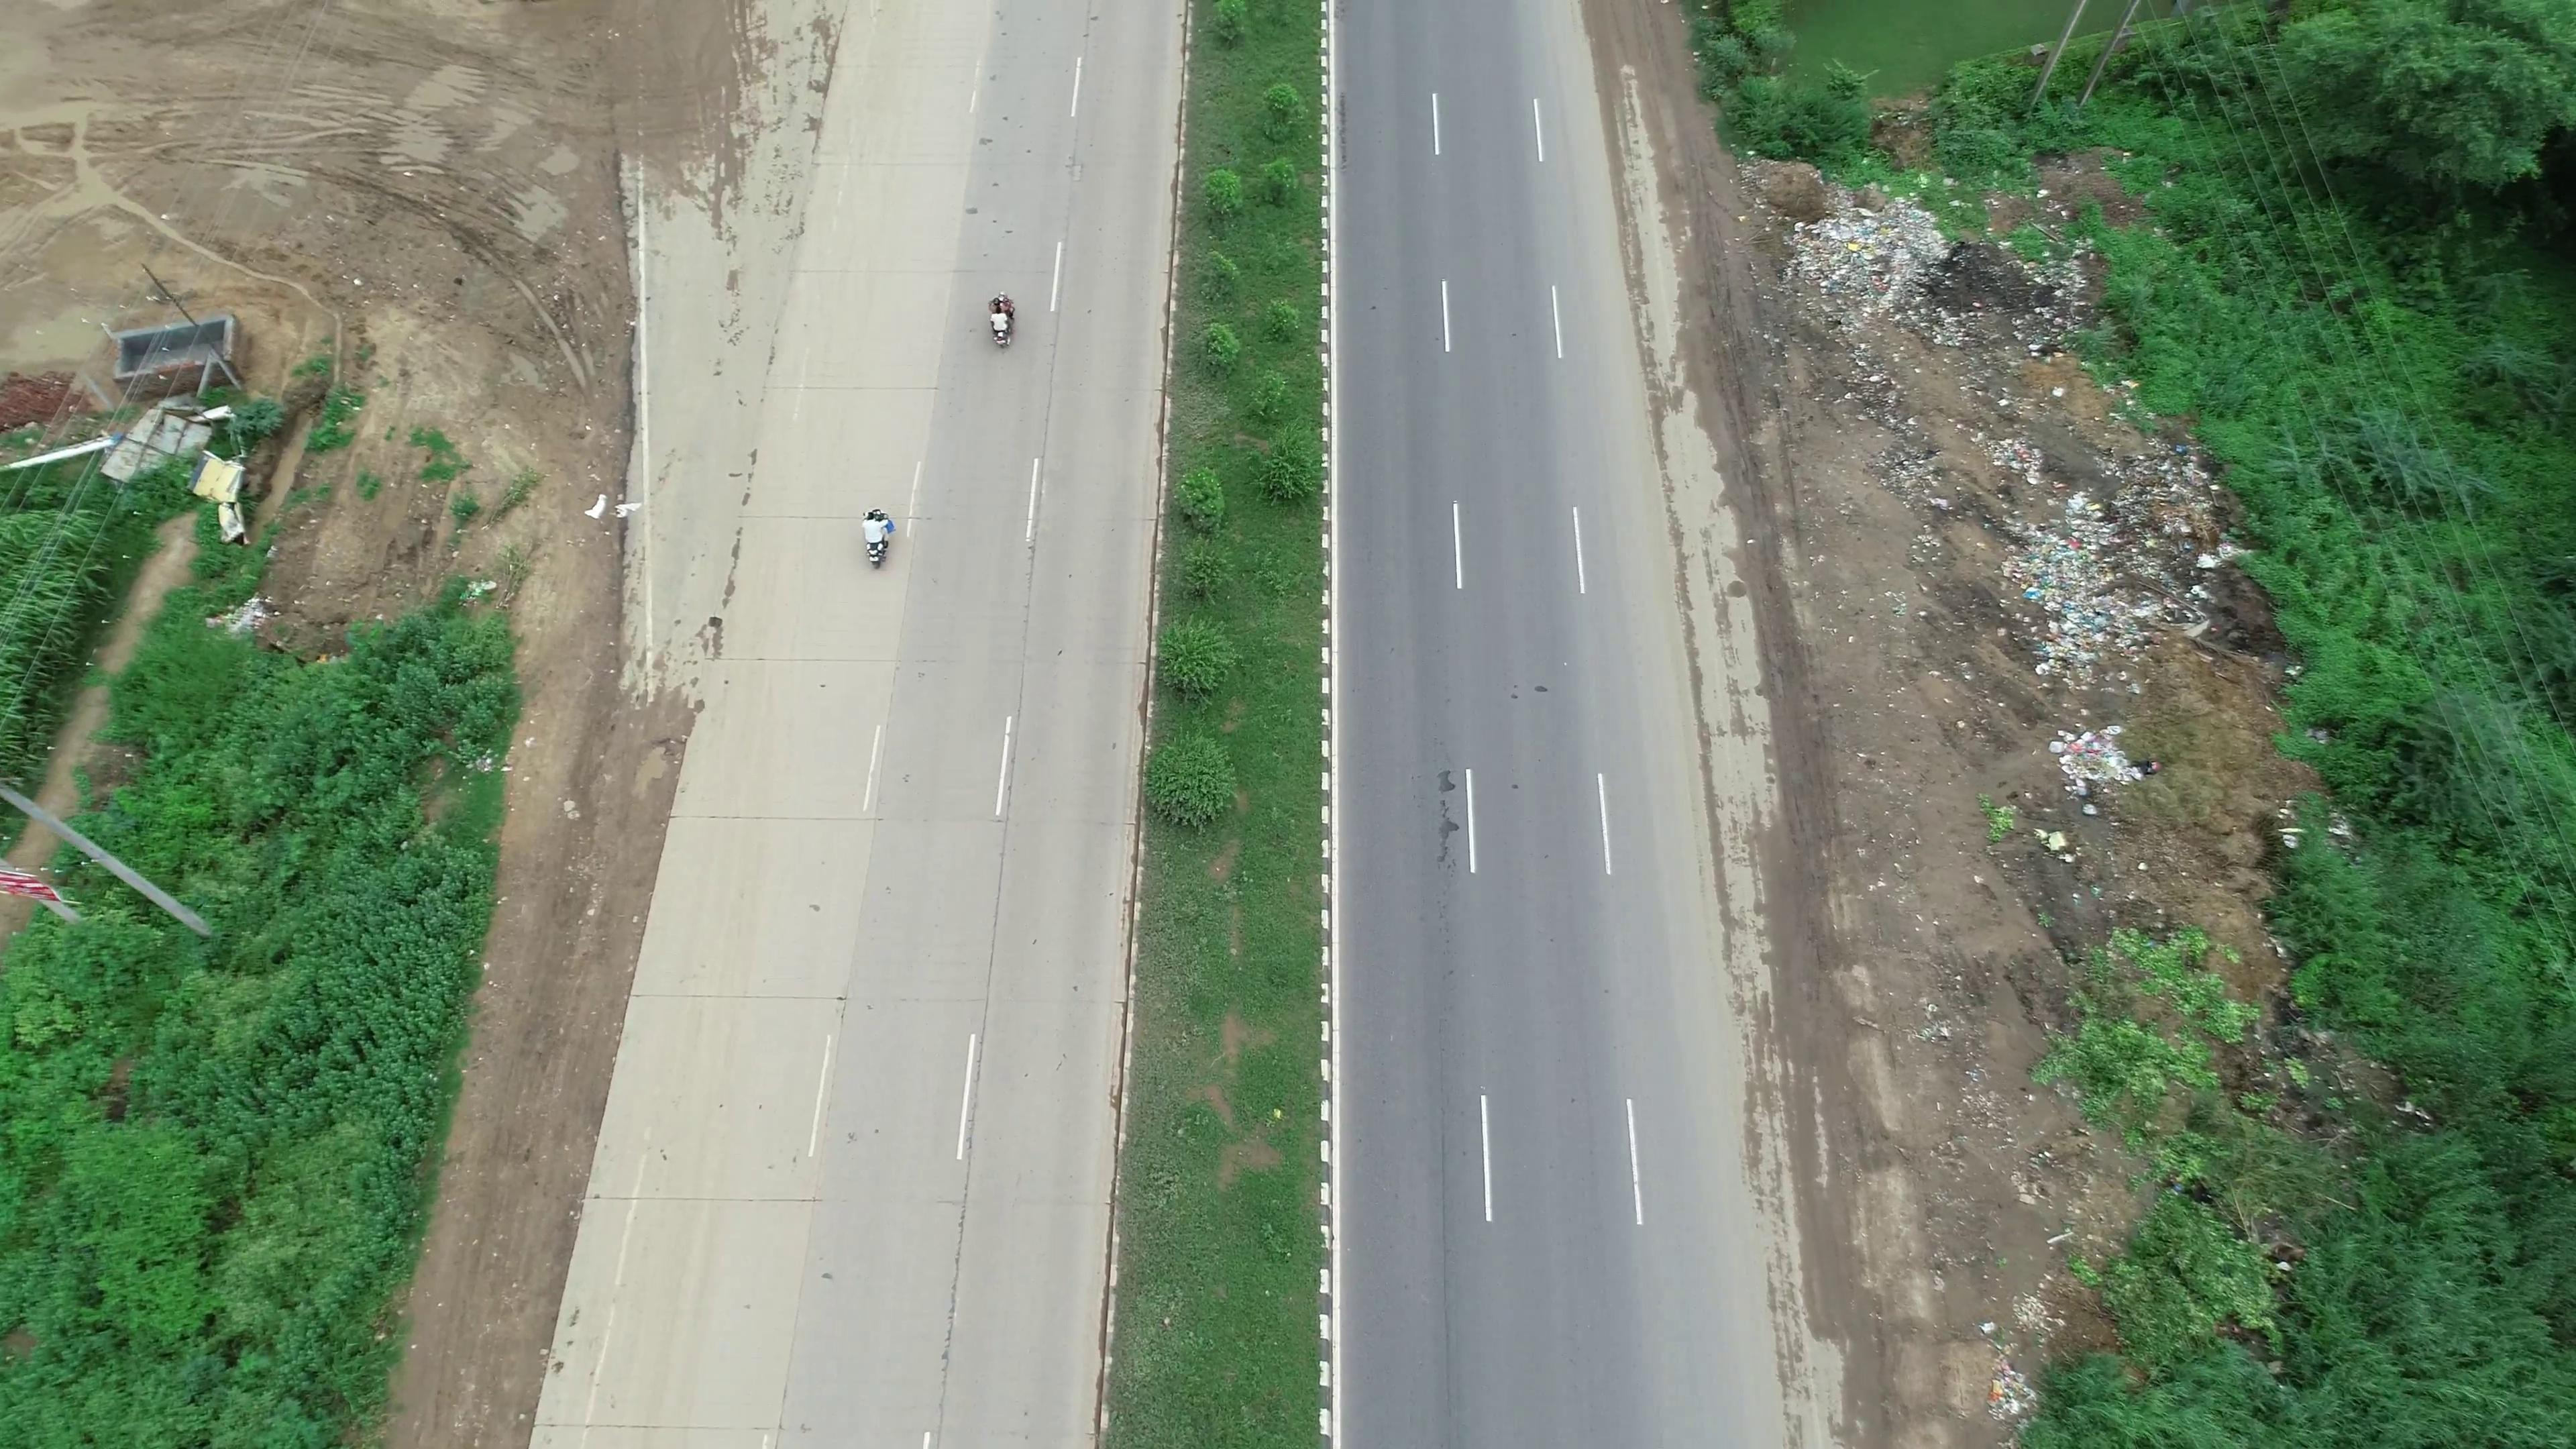Road_side_garbage: (1806, 175, 2187, 660)
